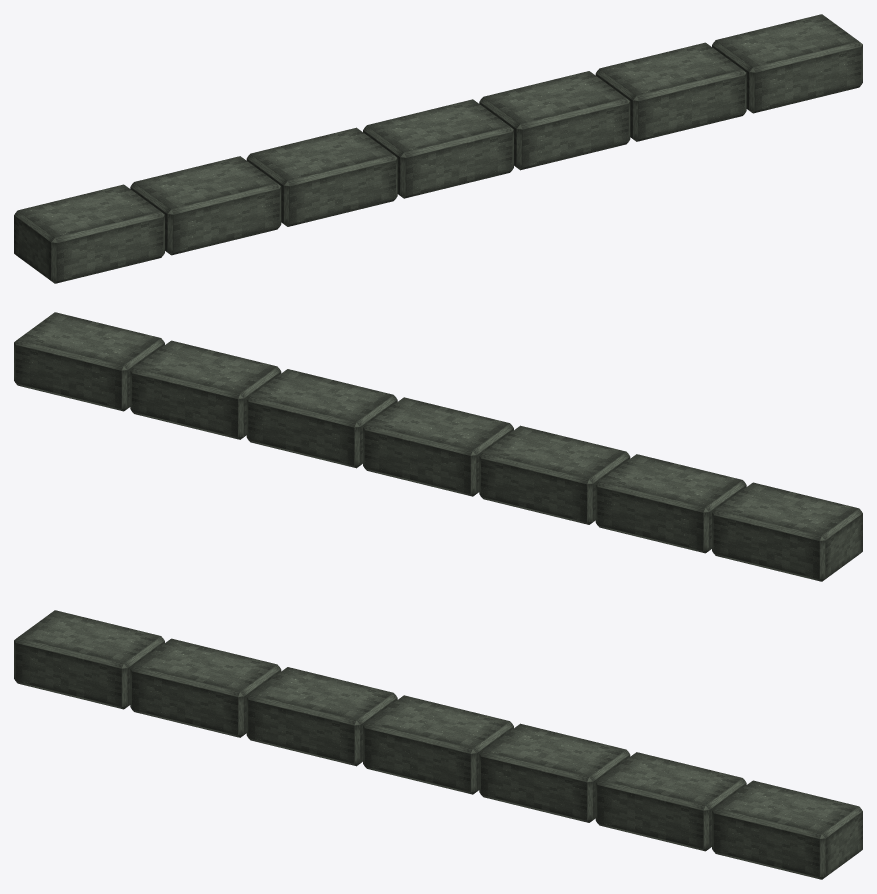
The model's file is THStage_RearPartition.fbx.
3 views of the same model, one above another, from view 1: azimuth 30°, elevation 25°; view 2: azimuth 150°, elevation 25°; view 3: azimuth 330°, elevation 25° (orthographic).
Visible parts, largest first — view 1: THStage_RearPartition; view 2: THStage_RearPartition; view 3: THStage_RearPartition.
Boxes of the visible parts, x1=… form: THStage_RearPartition: x1=14, y1=14, x2=862, y2=283; THStage_RearPartition: x1=14, y1=312, x2=862, y2=581; THStage_RearPartition: x1=14, y1=610, x2=862, y2=879.
Bounding box in the file's own units: 2.93 × 0.16 × 0.26.
Materials: 1 (1 with a texture image).
